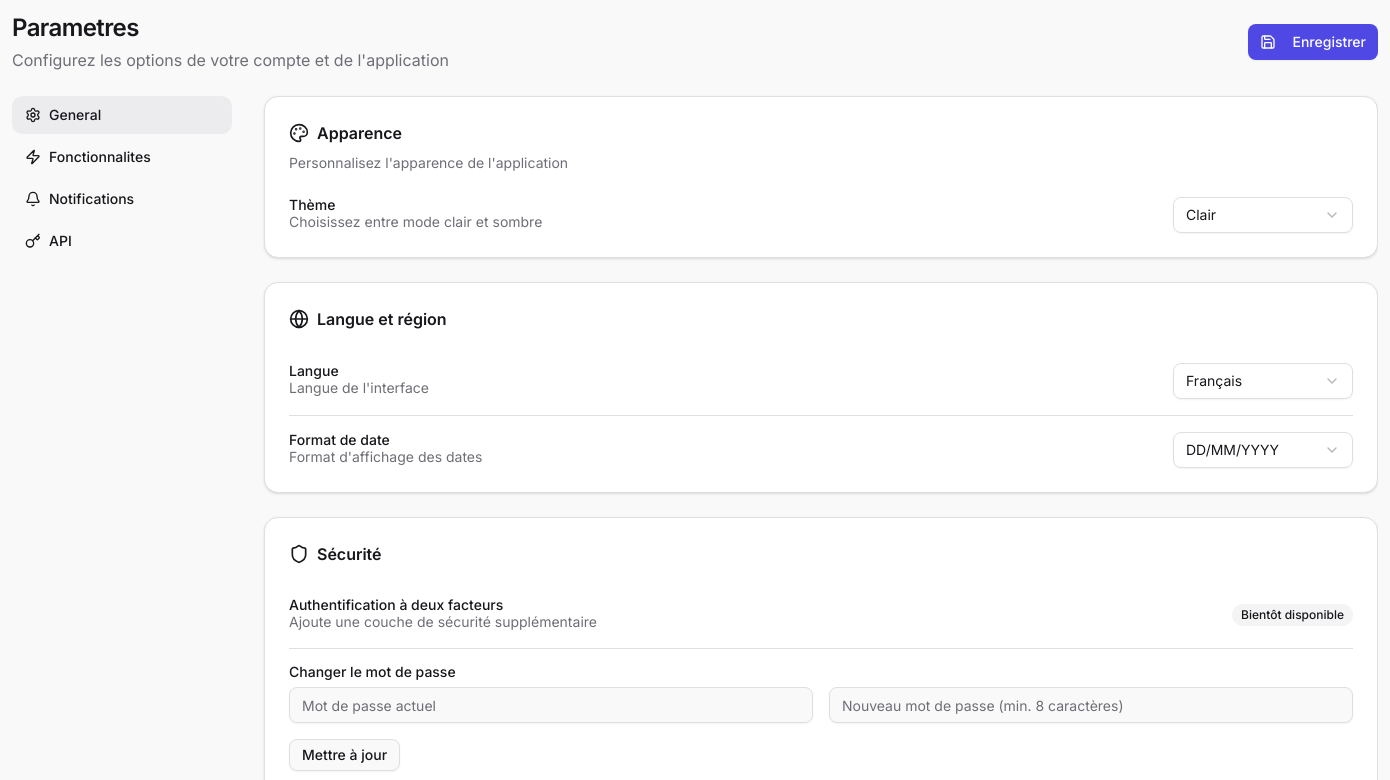
Test: SettingsPage › Features Tab › should render features tab when clicked
This screenshot has width=1390, height=780.
Click the tab "Fonctionnalites".
click(122, 157)  # box left=12, top=138, right=232, bottom=176
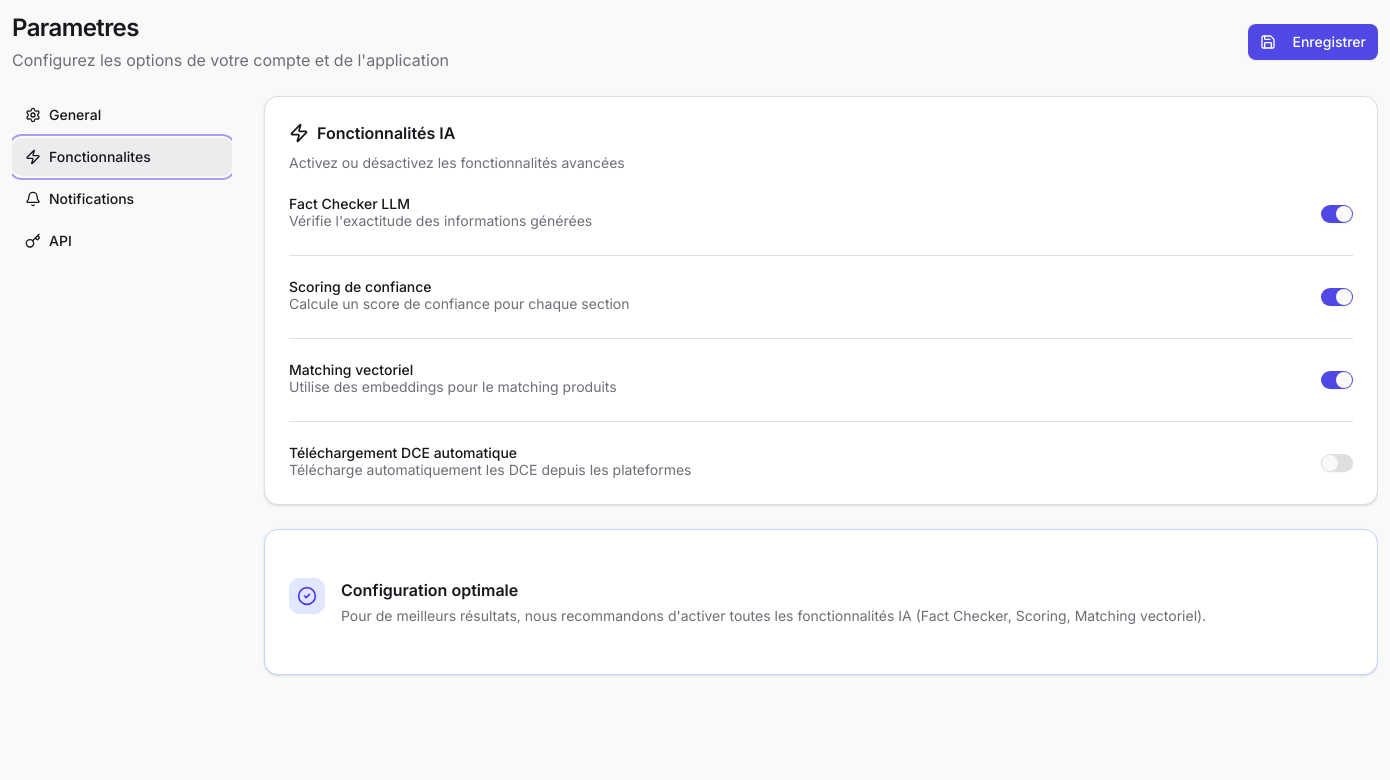
Expected: the text "Fact Checker LLM" is shown, left=289, top=195, right=410, bottom=212
Expected: the text "Scoring de confiance" is shown, left=289, top=278, right=432, bottom=295
Expected: the text "Matching vectoriel" is shown, left=289, top=361, right=413, bottom=378
